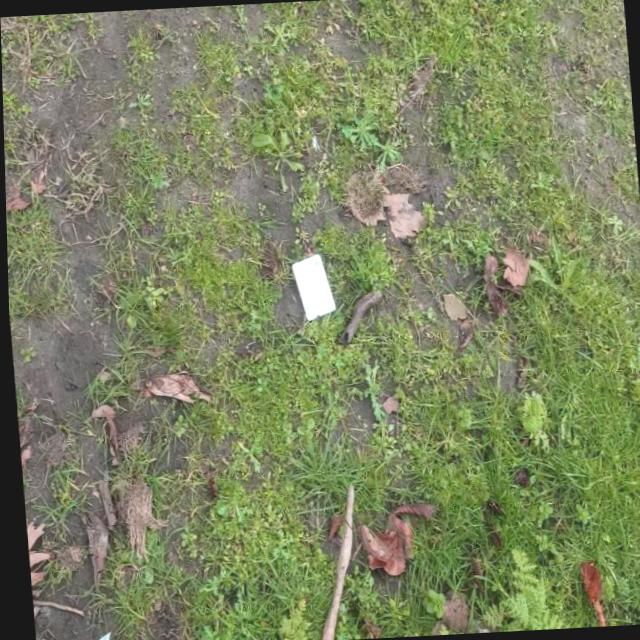Paper: (287, 252, 334, 322), (70, 628, 120, 640)
